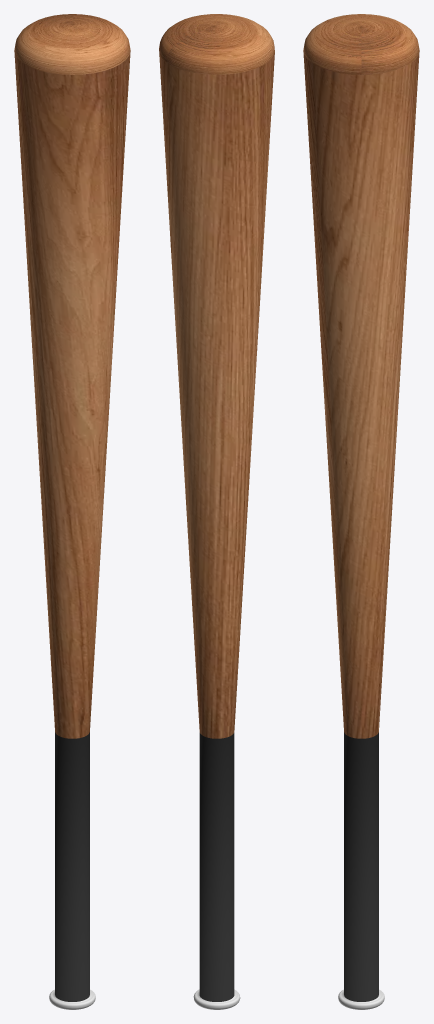
Rendered from Knuppel_3.fbx.
3 renders of one model, left to right at view 1: azimuth 90°, elevation 25°; view 2: azimuth 210°, elevation 25°; view 3: azimuth 270°, elevation 25°, orthographic.
Parts seen in each view (by area): view 1: Sphere; view 2: Sphere; view 3: Sphere.
Boxes of the visible parts, x1,y1,x2,y2 form: Sphere: [14, 14, 130, 1009]; Sphere: [159, 14, 274, 1009]; Sphere: [303, 14, 419, 1009].
Size of the model in its own units: 200 by 1855 by 200.
Materials: 3 (1 with a texture image).
